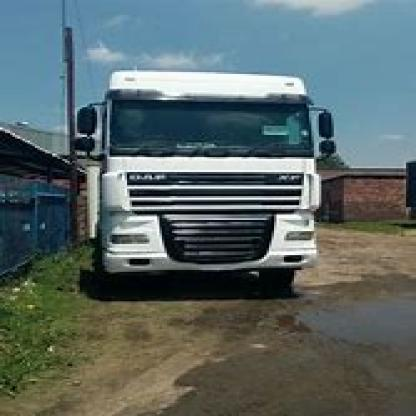dump_truck: (58, 55, 332, 296)
